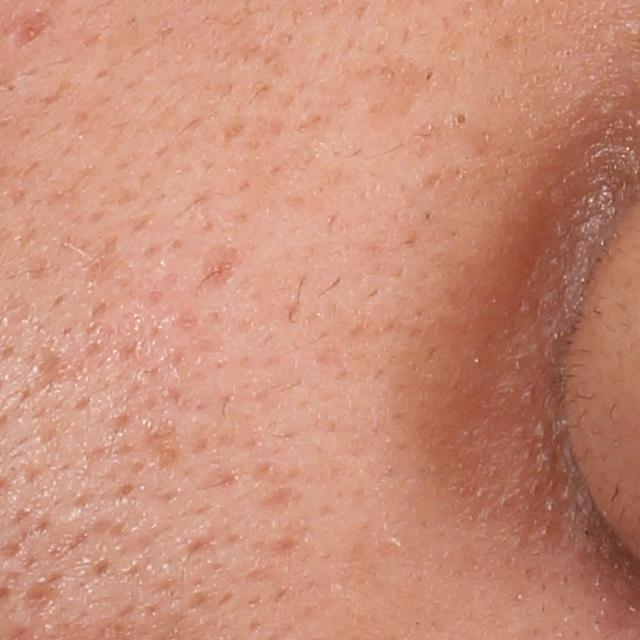atrophic_scar: (13, 568, 63, 622), (195, 241, 242, 293), (25, 346, 73, 394)
comedo: (450, 107, 467, 129)
